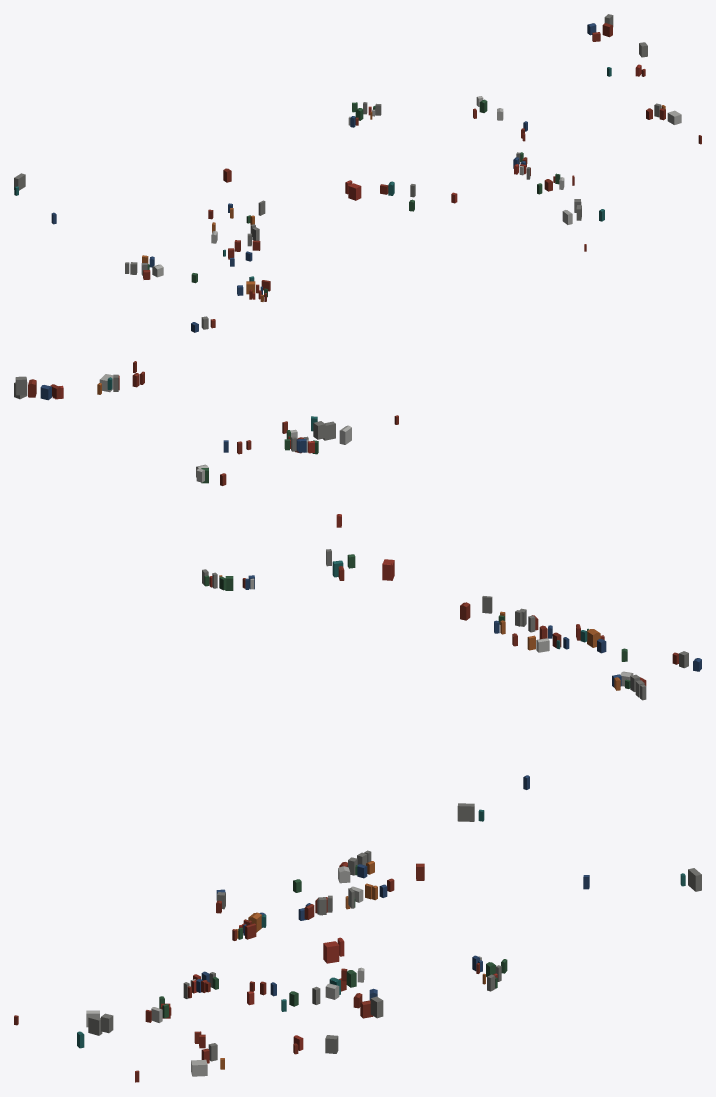
File: near-15-27353-14867.5c0451fb.glb
The picture shows the model from 3 angles, top to bottom: view 1: azimuth 30°, elevation 25°; view 2: azimuth 150°, elevation 25°; view 3: azimuth 270°, elevation 25°; orthographic projection. The views are drawn at different scales.
Size of the model in its own units: 1179 by 347 by 1040.
